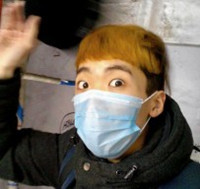face_mask: (73, 49, 148, 154)
